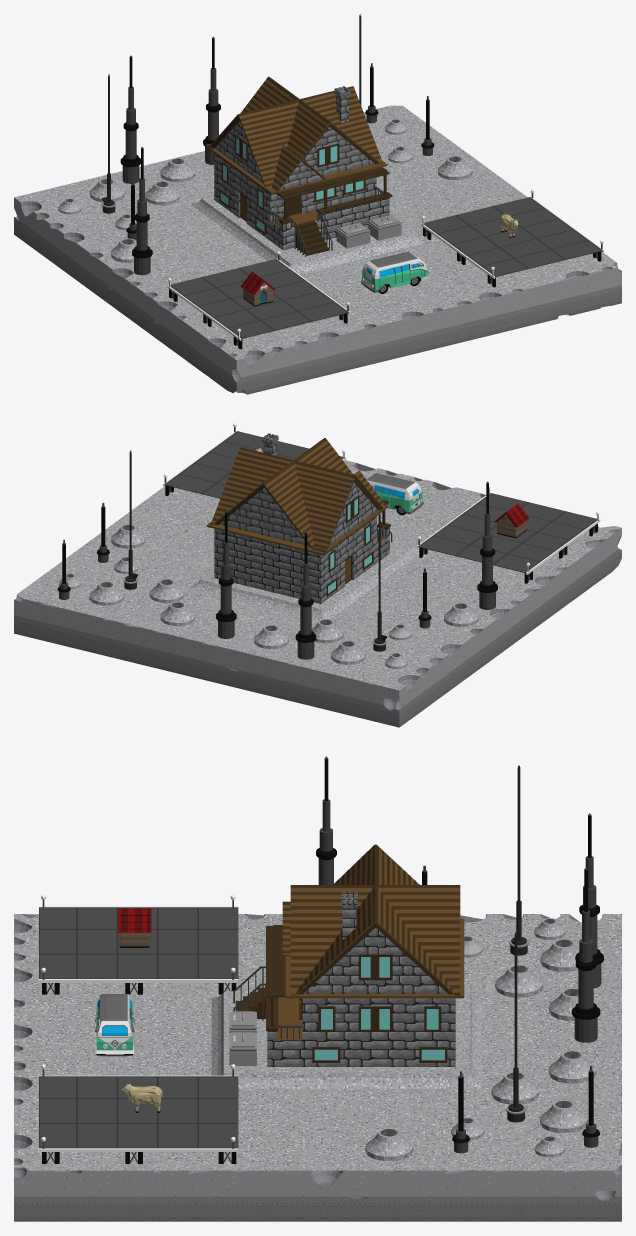
The picture shows the model from 3 angles, top to bottom: view 1: azimuth 30°, elevation 25°; view 2: azimuth 150°, elevation 25°; view 3: azimuth 270°, elevation 25°; orthographic projection. The views are drawn at different scales.
Visible parts, largest first — view 1: Cube.027, Cube.586, Cube.026, Cube.025, Cube.028, VEHICLES_VAN, Cylinder.020, Cylinder.021, Cylinder.017, OBJRANDOM_DOGHOUSE, Cube.029, Cube.030 (+4 smaller); view 2: Cube.027, Cube.586, Cube.025, Cube.028, Cube.026, VEHICLES_VAN, Cylinder.020, Cylinder.021, Cylinder.017, OBJRANDOM_DOGHOUSE, Cylinder.031, Cylinder.028 (+8 smaller); view 3: Cube.027, Cube.586, Cube.026, Cube.025, Cube.028, Cylinder.017, VEHICLES_VAN, Cylinder.020, Cylinder.021, OBJRANDOM_DOGHOUSE, Cylinder.033, Cylinder.031 (+11 smaller).
Boxes of the visible parts, left/top/right/bottom form: Cube.027: left=14, top=105, right=621, bottom=394; Cube.586: left=205, top=76, right=392, bottom=256; Cube.026: left=421, top=189, right=604, bottom=287; Cube.025: left=167, top=251, right=350, bottom=349; Cube.028: left=191, top=195, right=424, bottom=274; VEHICLES_VAN: left=361, top=251, right=428, bottom=293; Cylinder.020: left=120, top=55, right=140, bottom=183; Cylinder.021: left=132, top=146, right=152, bottom=275; Cylinder.017: left=203, top=36, right=220, bottom=164; OBJRANDOM_DOGHOUSE: left=240, top=271, right=275, bottom=306; Cube.029: left=336, top=222, right=370, bottom=248; Cube.030: left=368, top=215, right=401, bottom=240; Cube.027: left=14, top=460, right=621, bottom=727; Cube.586: left=206, top=433, right=392, bottom=603; Cube.025: left=417, top=485, right=600, bottom=583; Cube.028: left=190, top=538, right=419, bottom=620; Cube.026: left=163, top=423, right=346, bottom=498; VEHICLES_VAN: left=366, top=473, right=423, bottom=515; Cylinder.020: left=295, top=531, right=316, bottom=659; Cylinder.021: left=477, top=481, right=497, bottom=609; Cylinder.017: left=216, top=510, right=236, bottom=638; OBJRANDOM_DOGHOUSE: left=494, top=504, right=529, bottom=538; Cylinder.031: left=89, top=581, right=124, bottom=605; Cylinder.028: left=331, top=640, right=365, bottom=664; Cube.027: left=14, top=914, right=621, bottom=1221; Cube.586: left=233, top=844, right=464, bottom=1066; Cube.026: left=39, top=1064, right=238, bottom=1163; Cube.025: left=39, top=895, right=238, bottom=994; Cube.028: left=211, top=991, right=481, bottom=1088; Cylinder.017: left=571, top=867, right=600, bottom=1042; VEHICLES_VAN: left=95, top=994, right=134, bottom=1056; Cylinder.020: left=575, top=813, right=603, bottom=988; Cylinder.021: left=316, top=756, right=336, bottom=884; OBJRANDOM_DOGHOUSE: left=117, top=908, right=151, bottom=947; Cylinder.033: left=365, top=1128, right=413, bottom=1160; Cylinder.031: left=540, top=1100, right=587, bottom=1132.
Bounding box in the file's own units: 4000 × 1807 × 4000.
37 materials, 5 textured.
